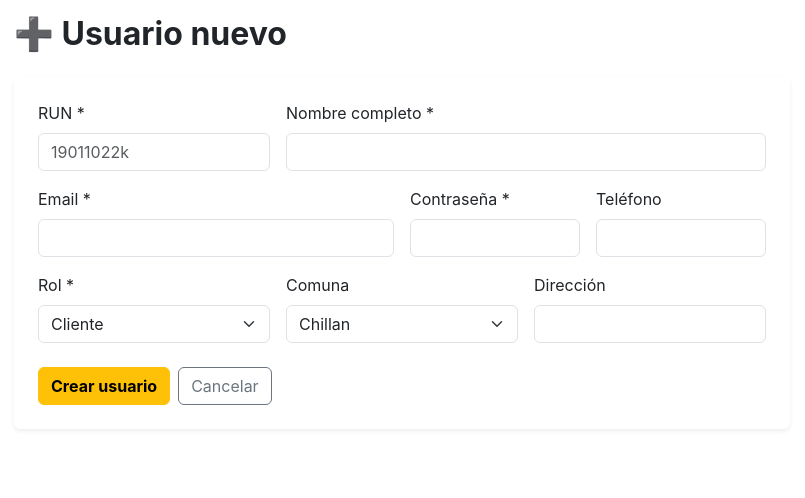
Scenario: UserNew - CRUD Create usuario › valida RUN con formato inválido
Step 1. Type "abc" into the field with placeholder "19011022k" → (154, 152), box [38, 133, 270, 171]
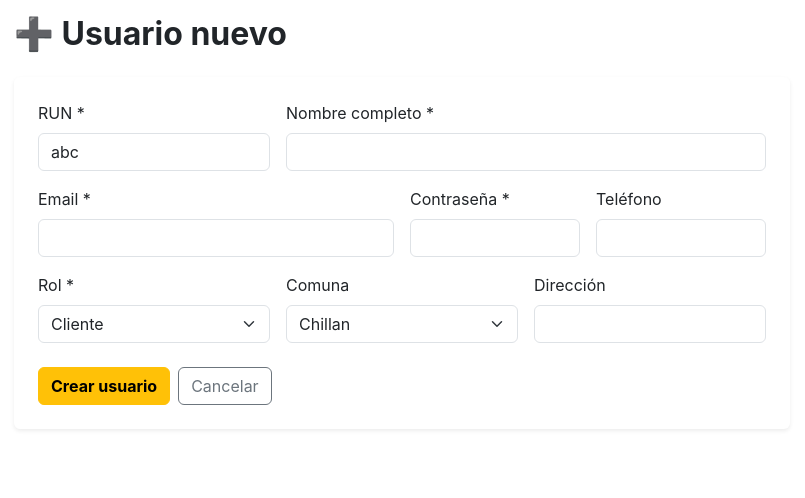
Step 2. Click the button "Crear usuario" → click(104, 386), box [38, 367, 170, 405]
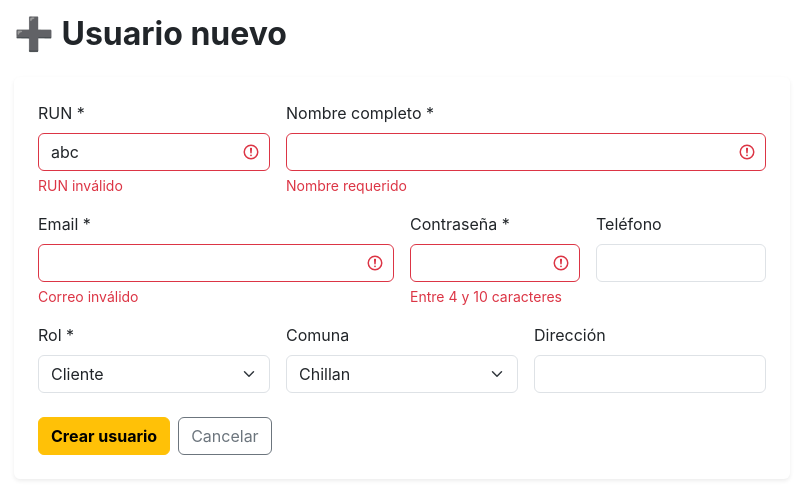
Expected: the text "RUN inválido" is shown, [38, 177, 123, 194]
